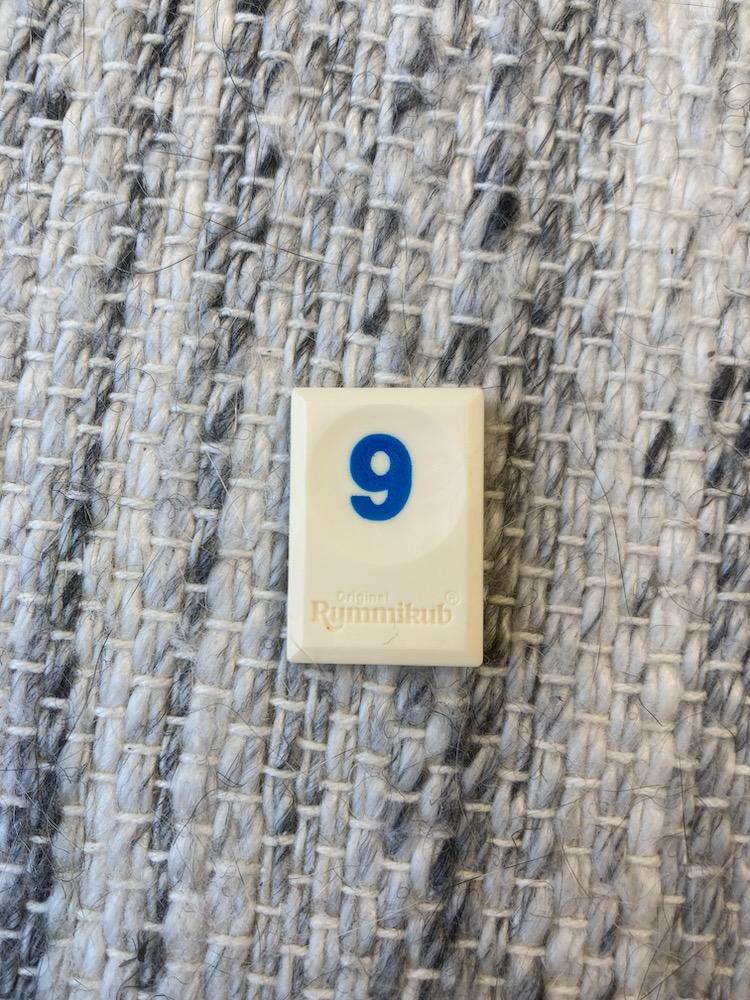blue_9: (287, 389, 482, 666)
